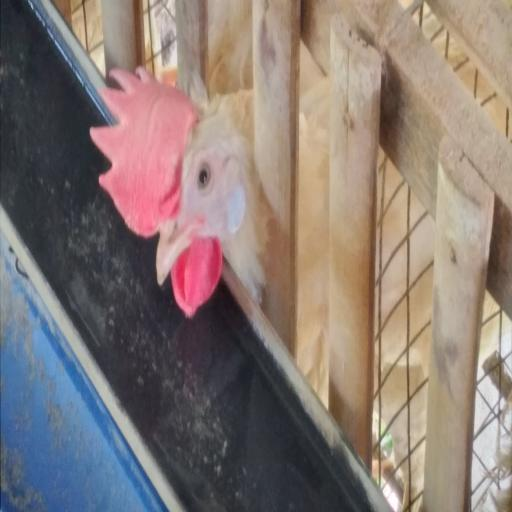healthy: (139, 124, 235, 260)
